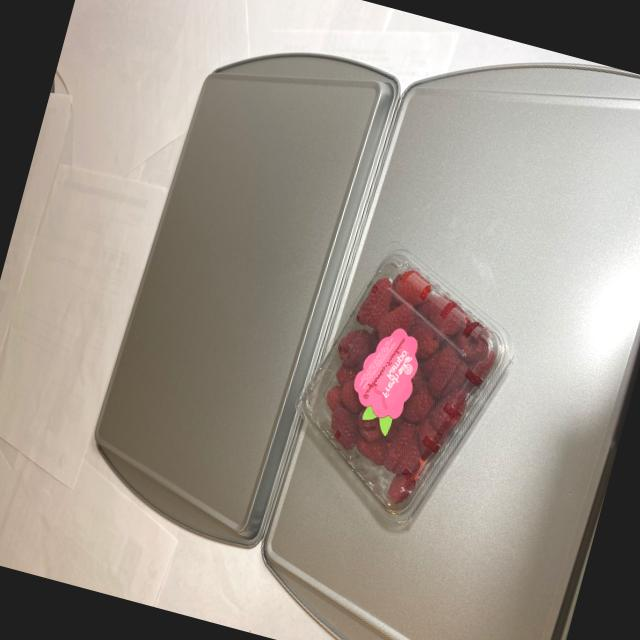raspberries: (302, 258, 500, 520)
